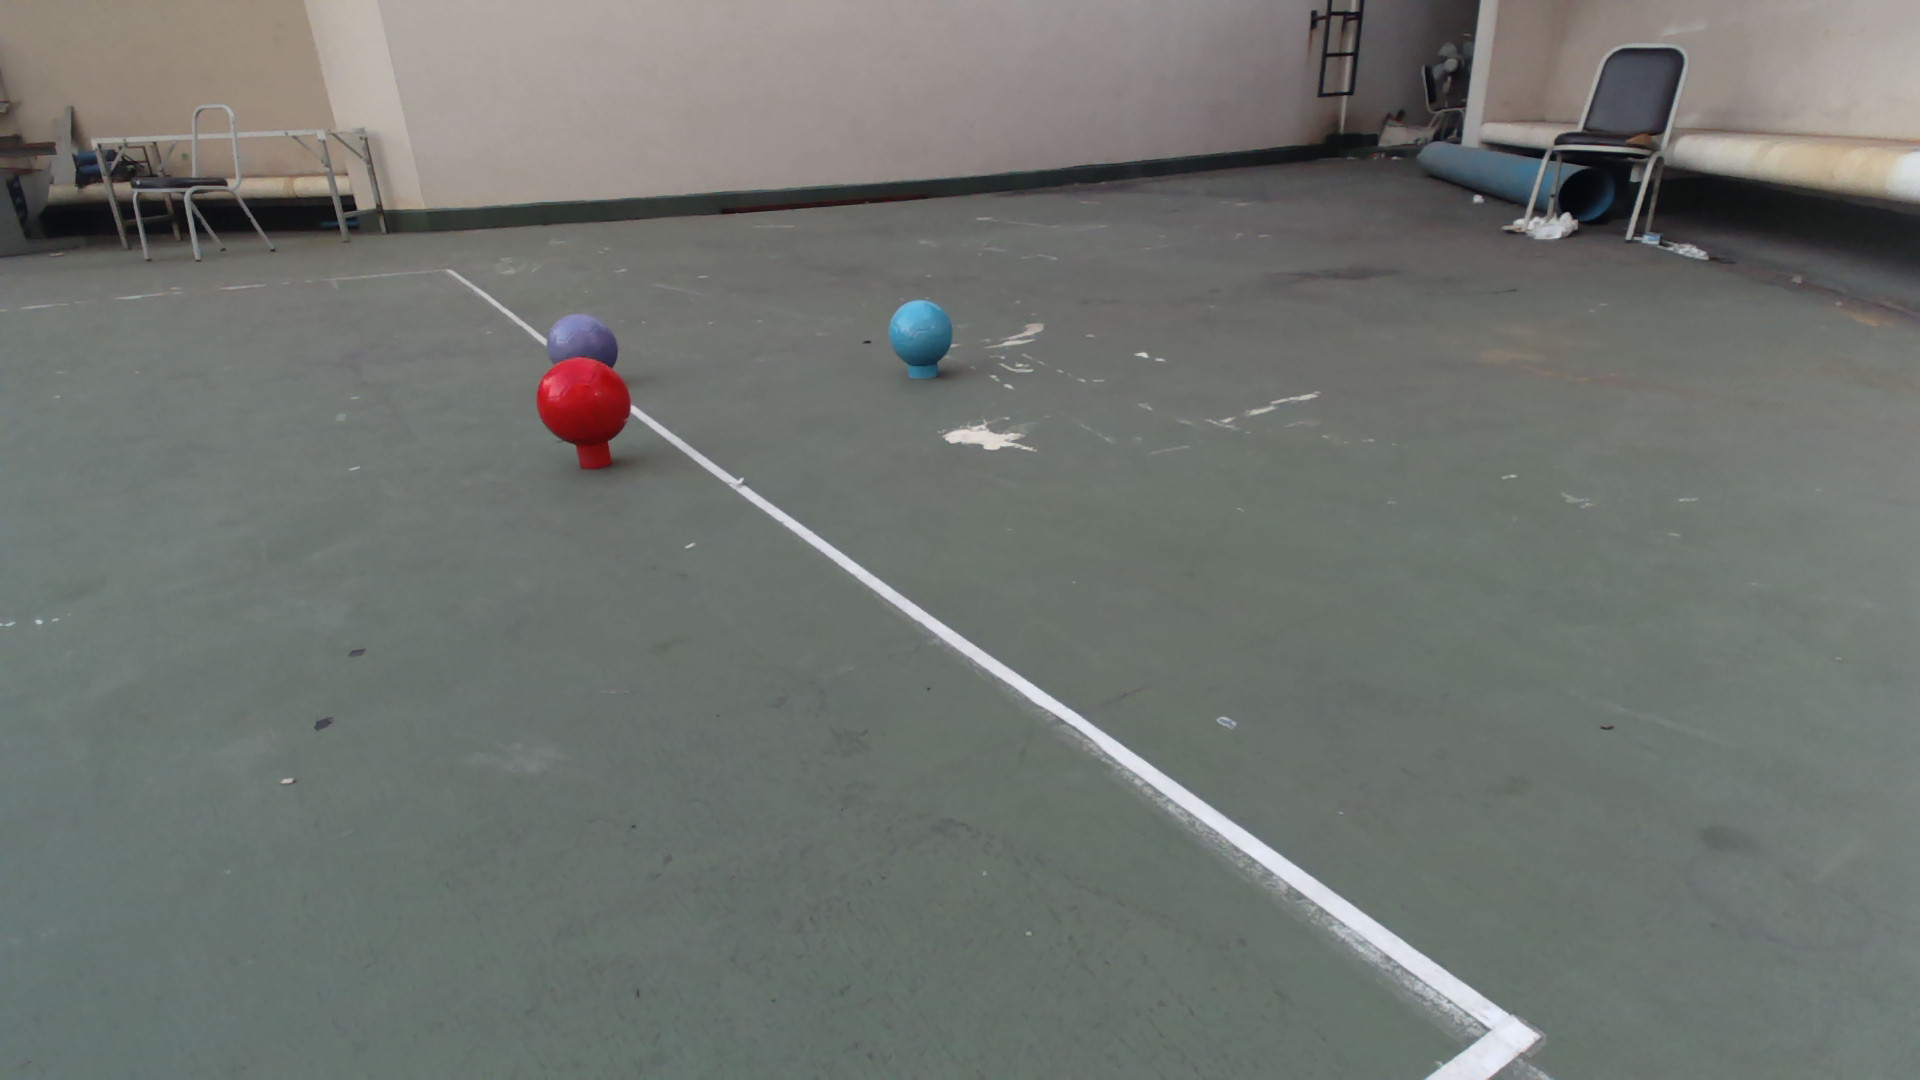Blue ball: (887, 298, 953, 368)
Purple ball: (545, 313, 618, 368)
Red ball: (533, 353, 633, 447)
